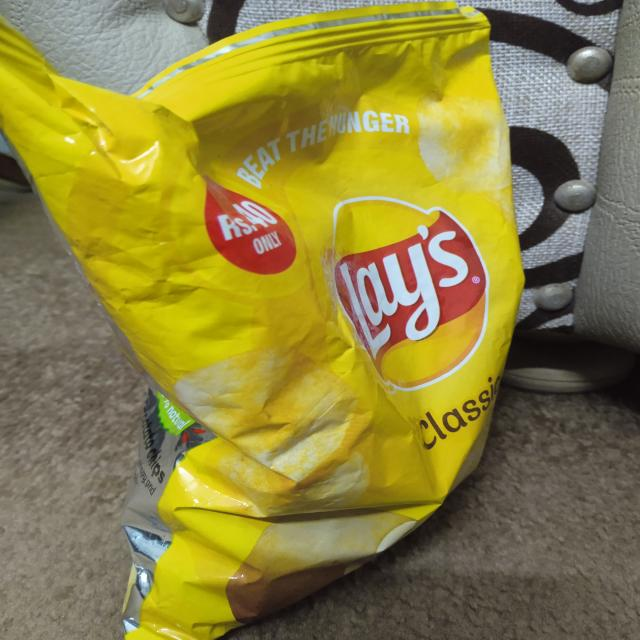Plastic: (0, 1, 535, 640)
